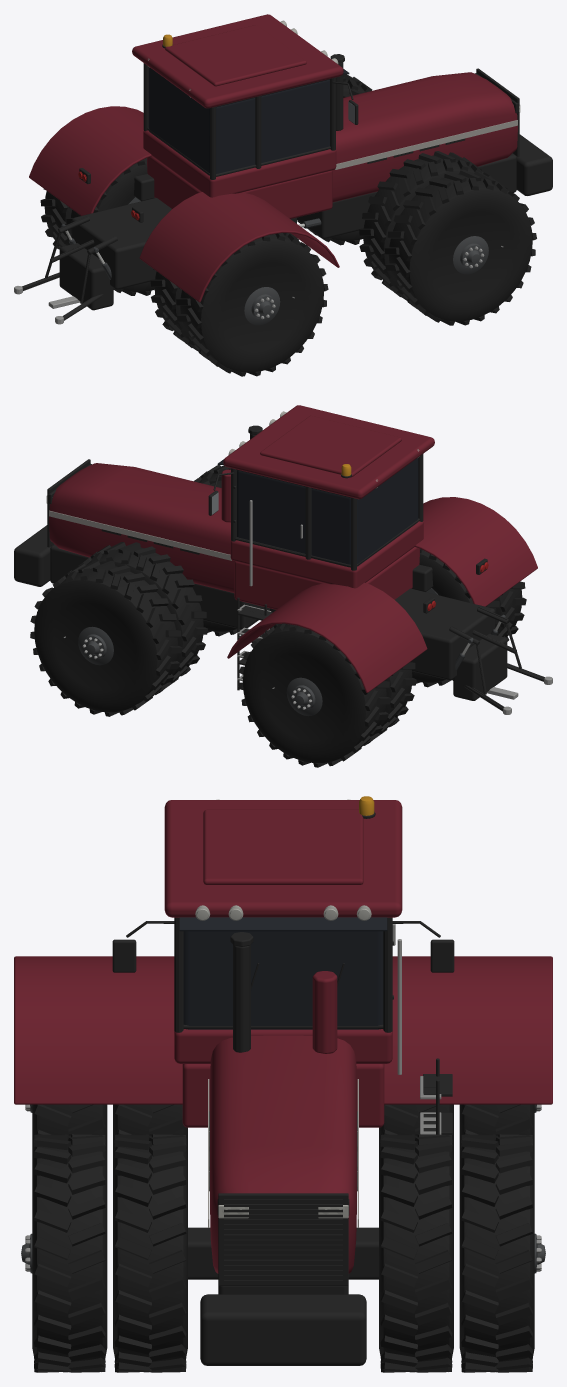
File: SM_Prop_farm_tractor4wd_1.glb
3 views of the same model, one above another, from view 1: azimuth 30°, elevation 25°; view 2: azimuth 150°, elevation 25°; view 3: azimuth 270°, elevation 25° (orthographic). The views are drawn at different scales.
Parts seen in each view (by area): view 1: SM_Prop_farm_tractor4wd_1; view 2: SM_Prop_farm_tractor4wd_1; view 3: SM_Prop_farm_tractor4wd_1.
Part boxes in pixels (bbox=[...]): SM_Prop_farm_tractor4wd_1: bbox=[14, 14, 552, 376]; SM_Prop_farm_tractor4wd_1: bbox=[14, 405, 552, 767]; SM_Prop_farm_tractor4wd_1: bbox=[14, 796, 552, 1372].
Bounding box in the file's own units: 7.57 × 3.82 × 4.54.
